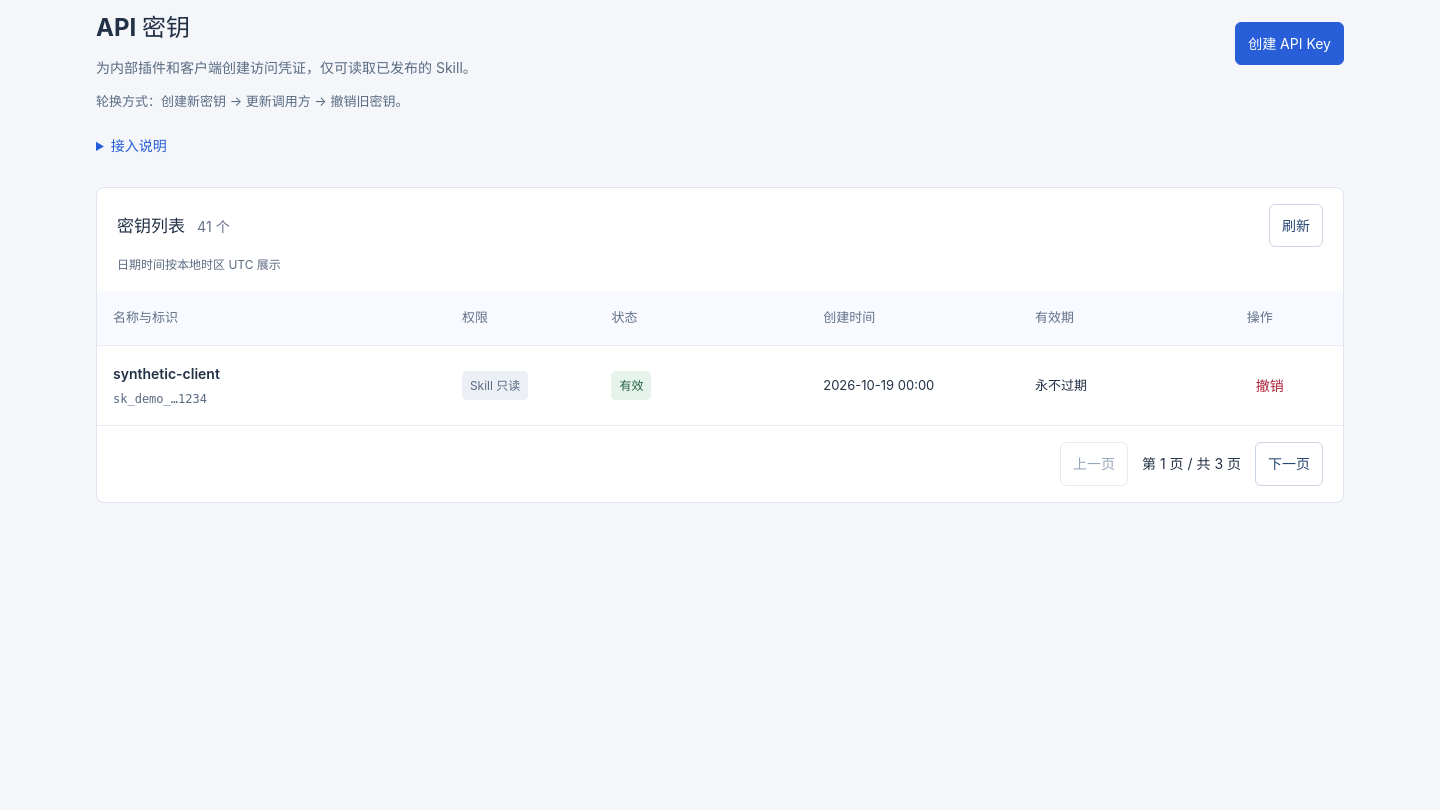
it: API Key 安全交互 › 撤销确认后更新行，刷新失败仍报告成功并保留页码
Click the button "下一页" at x=1289, y=464, box 1255,442 -> 1323,486
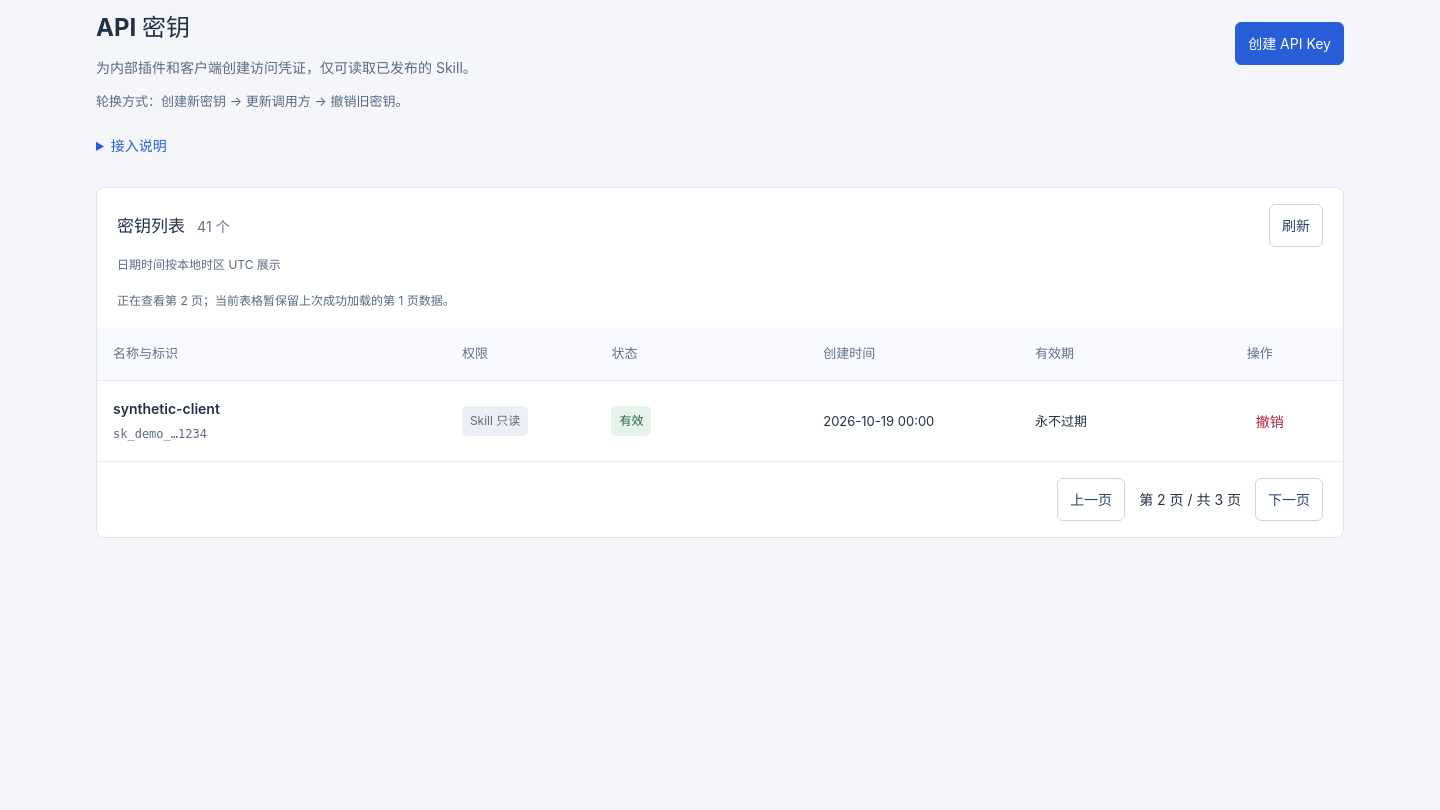
Click the button "撤销" at x=1270, y=421, box 1247,401 -> 1293,442
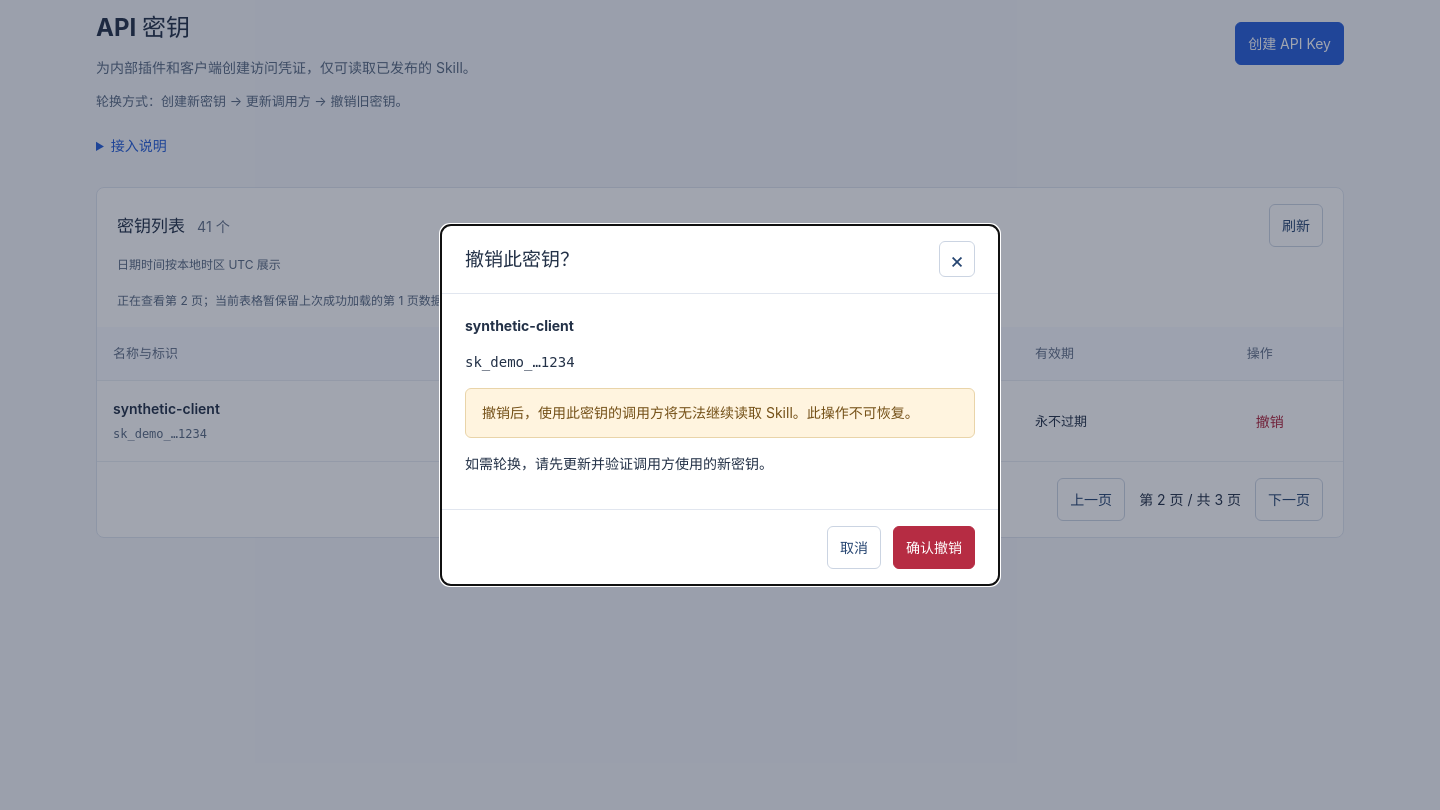
Click the button "确认撤销" at x=934, y=547, box 893,526 -> 975,569
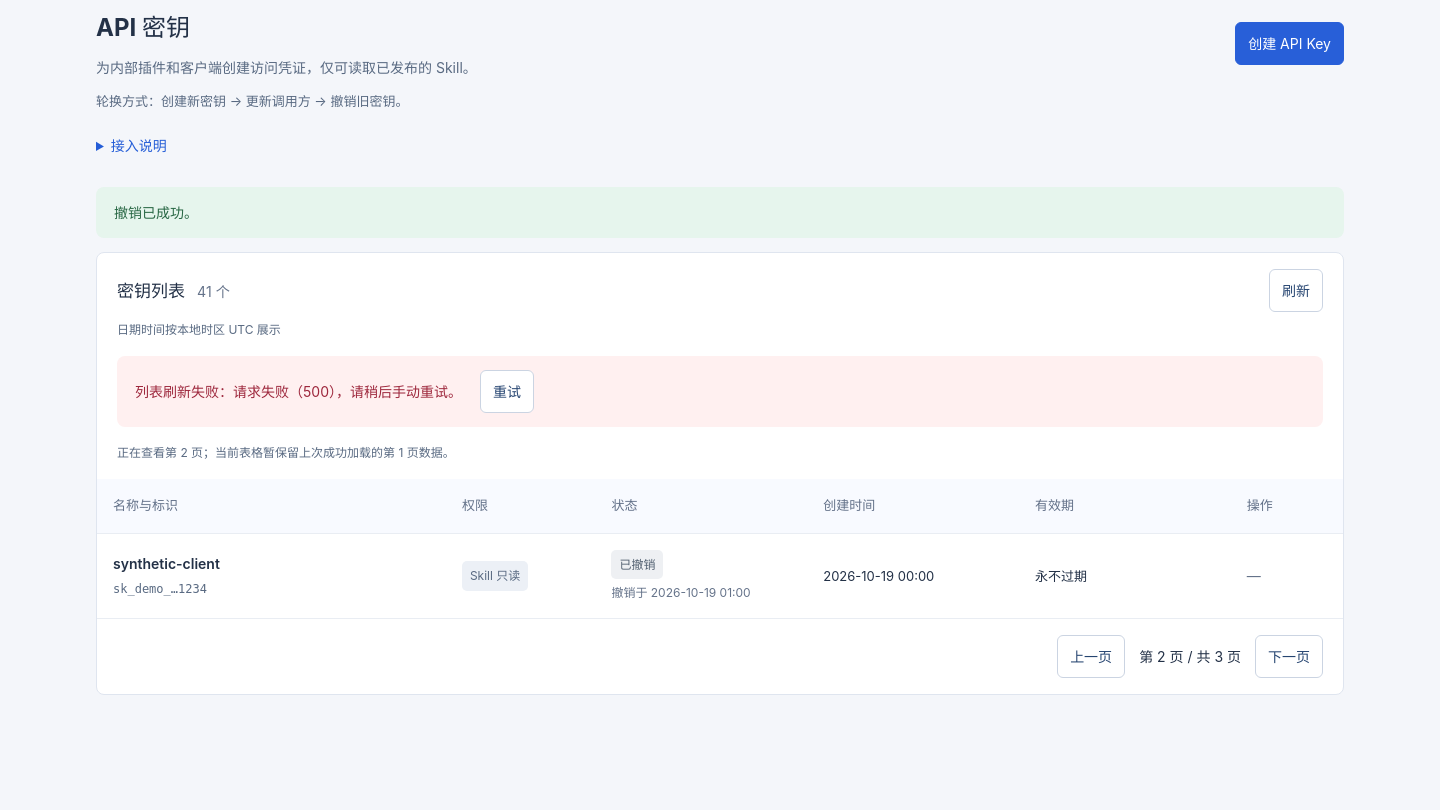
expect the text "第 2 页" is shown: met, box 117,445 -> 455,460
expect the text "撤销已成功" is shown: met, box 114,204 -> 198,221
expect the text "列表刷新失败" is shown: met, box 135,383 -> 466,400
